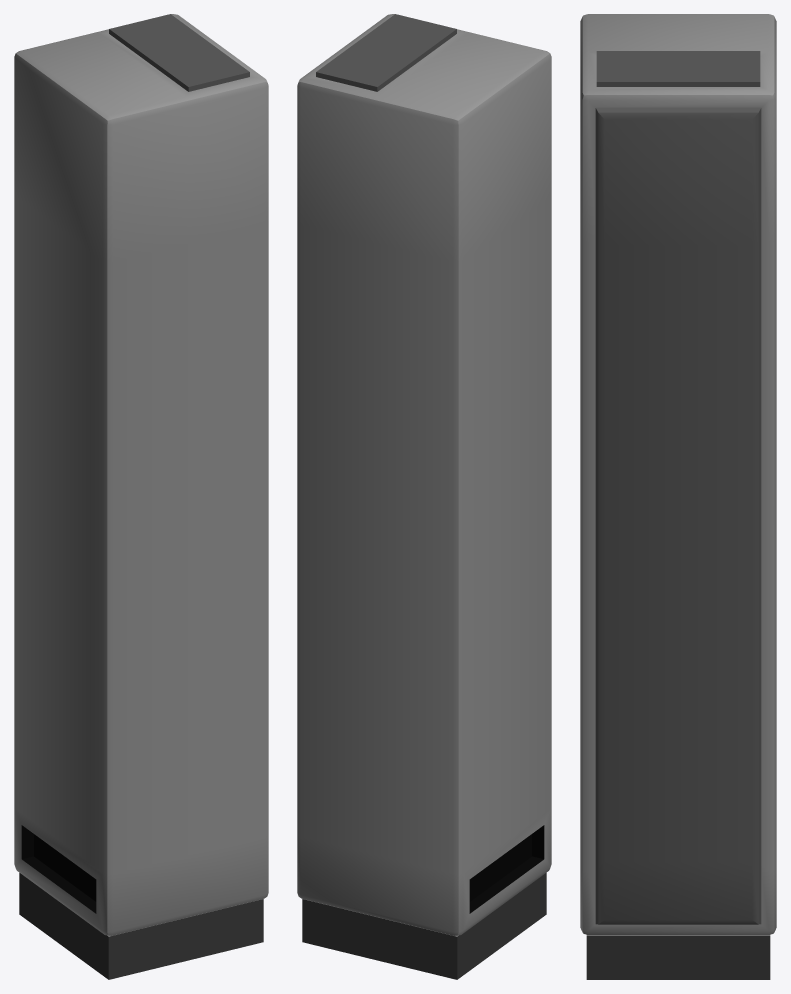
File: Speakers_02.glb
The picture shows the model from 3 angles, left to right: view 1: azimuth 30°, elevation 25°; view 2: azimuth 150°, elevation 25°; view 3: azimuth 270°, elevation 25°; orthographic projection. The views are drawn at different scales.
Visible parts, largest first — view 1: Mesh_Speakers_02; view 2: Mesh_Speakers_02; view 3: Mesh_Speakers_02.
Boxes of the visible parts, x1,y1,x2,y2 form: Mesh_Speakers_02: [14, 14, 268, 979]; Mesh_Speakers_02: [297, 14, 551, 979]; Mesh_Speakers_02: [580, 14, 776, 979].
Size of the model in its own units: 0.2091 by 1.01 by 0.2.
Materials: 1 (1 with a texture image).
